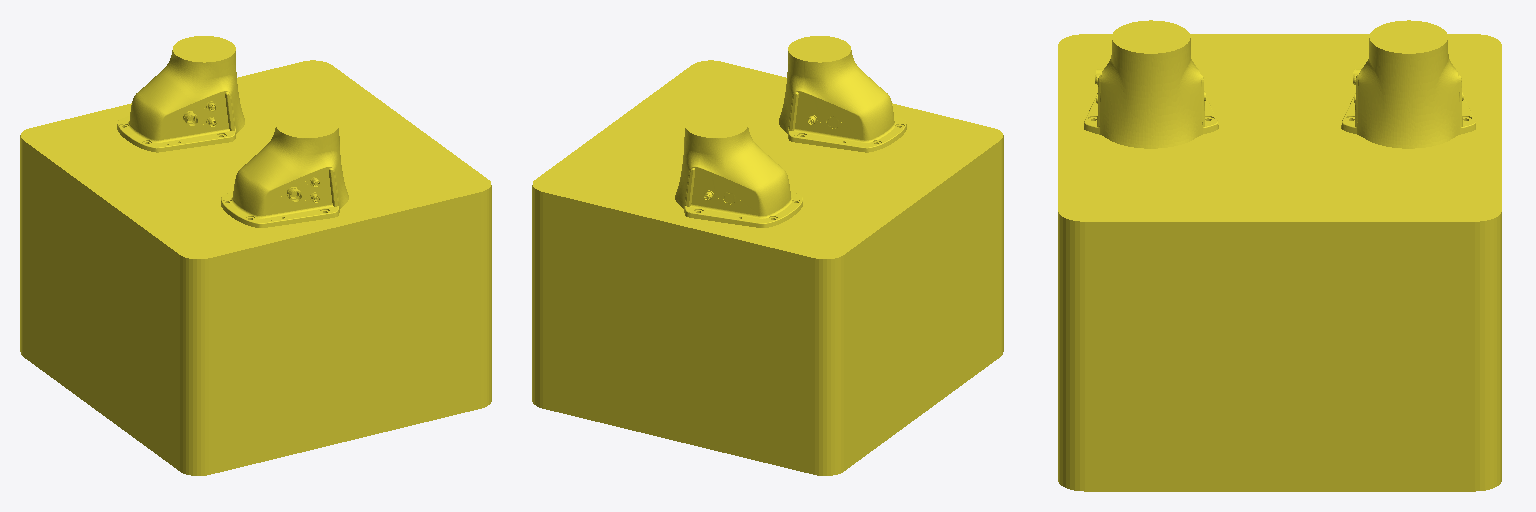
robot.urdf — mmp_panda:
<?xml version='1.0' encoding='utf-8'?>

<robot name="mmp_panda" version="1.0">

  <!-- GROUND LINK -->
  <link name ="ground_link">
    <inertial>
      <origin xyz="0.0 0.0 0.0" rpy="0 0 0" />
      <mass value="0.001" />
      <inertia ixx="1E-06" ixy="0.0" ixz="0.0" iyy="1E-06" iyz="0.0" izz="1E-06" />
    </inertial>
  </link>


  <!-- MOBILE BASE LINKS -->
  <link name ="base_x">
    <inertial>
      <origin xyz="0.0 0.0 0.0" rpy="0 0 0" />
      <mass value="0.001" />
      <inertia ixx="1E-06" ixy="0.0" ixz="0.0" iyy="1E-06" iyz="0.0" izz="1E-06" />
    </inertial>
  </link>

  <link name = "base_y">
    <inertial>
      <origin xyz="0.0 0.0 0.0" rpy="0 0 0" />
      <mass value = "0.001" />
      <inertia ixx="1E-06" ixy="0.0" ixz="0.0" iyy="1E-06" iyz="0.0" izz="1E-06" />
    </inertial>
  </link>

  <!-- MOBILE BASE + LINK 0 OF PANDA ARM -->
  <link name = "base_link">
    <inertial>
      <origin xyz="0.0 0.0 0.1757" rpy="0 0 0" />
      <mass value = "64.6" />
      <inertia ixx="1.721" ixy="0.0" ixz="0.0" iyy="1.712" iyz="0.0" izz="2.030" />
    </inertial>
    <visual>
      <geometry>
        <mesh filename="meshes/mmp_panda_two_arm_base.obj" />
      </geometry>
    </visual>
  </link>

  <!-- PANDA LEFT ARM LINKS --> 
<!--<link name="link0">
    <inertial>
      <origin xyz="0 0 0.05" rpy="0 0 0" />
      <mass value="4" />
      <inertia ixx="0.4" iyy="0.4" izz="0.4" ixy="0" ixz="0" iyz="0" />
    </inertial>
    <visual>
      <geometry>
        <mesh filename="../panda/meshes/visual/link0.obj"/>
      </geometry>
    </visual>
<!      <collision>
        <geometry>
          <mesh filename="../panda/meshes/collision/link0.obj"/>
        </geometry>
      </collision> 
  </link> -->
  <link name="link1_left">
    <inertial>
      <origin xyz="0 0 -0.07" rpy="0 -0 0" />
      <mass value="4" />
      <inertia ixx="0.3" iyy="0.3" izz="0.3" ixy="0" ixz="0" iyz="0" />
    </inertial>
    <visual>
      <geometry>
        <mesh filename="../panda/meshes/visual/link1.obj"/>
      </geometry>
    </visual>
    <!-- <collision>
      <geometry>
        <mesh filename="../panda/meshes/collision/link1.obj"/>
      </geometry>
    </collision> -->
  </link>
  <link name="link2_left">
    <inertial>
      <origin xyz="0 -0.1 0" rpy="0 -0 0" />
      <mass value="3" />
      <inertia ixx="0.3" iyy="0.3" izz="0.3" ixy="0" ixz="0" iyz="0" />
    </inertial>
    <visual>
      <geometry>
        <mesh filename="../panda/meshes/visual/link2.obj"/>
      </geometry>
    </visual>
    <!-- <collision>
      <geometry>
        <mesh filename="../panda/meshes/collision/link2.obj"/>
      </geometry>
    </collision> -->
  </link>
  <link name="link3_left">
    <inertial>
      <origin xyz="0.04 0 -0.05" rpy="0 -0 0" />
      <mass value="3" />
      <inertia ixx="0.2" iyy="0.2" izz="0.2" ixy="0" ixz="0" iyz="0" />
    </inertial>
    <visual>
      <geometry>
        <mesh filename="../panda/meshes/visual/link3.obj"/>
      </geometry>
    </visual>
    <!-- <collision>
      <geometry>
        <mesh filename="../panda/meshes/collision/link3.obj"/>
      </geometry>
    </collision> -->
  </link>
  <link name="link4_left">
    <inertial>
      <origin xyz="-0.04 0.05 0" rpy="0 -0 0" />
      <mass value="3" />
      <inertia ixx="0.2" iyy="0.2" izz="0.2" ixy="0" ixz="0" iyz="0" />
    </inertial>
    <visual>
      <geometry>
        <mesh filename="../panda/meshes/visual/link4.obj"/>
      </geometry>
    </visual>
<!--       <collision>
      <geometry>
        <mesh filename="../panda/meshes/collision/link4.obj"/>
      </geometry>
    </collision> -->
  </link>
  <link name="link5_left">
    <inertial>
      <origin xyz="0 0 -0.15" rpy="0 -0 0" />
      <mass value="3" />
      <inertia ixx="0.2" iyy="0.2" izz="0.2" ixy="0" ixz="0" iyz="0" />
    </inertial>
    <visual>
      <geometry>
        <mesh filename="../panda/meshes/visual/link5.obj"/>
      </geometry>
    </visual>
<!--       <collision>
      <geometry>
        <mesh filename="../panda/meshes/collision/link5.obj"/>
      </geometry>
    </collision> -->
  </link>
  <link name="link6_left">
    <inertial>
      <origin xyz="0.06 0 0" rpy="0 -0 0" />
      <mass value="2" />
      <inertia ixx="0.1" iyy="0.1" izz="0.1" ixy="0" ixz="0" iyz="0" />
    </inertial>
    <visual>
      <geometry>
        <mesh filename="../panda/meshes/visual/link6.obj"/>
      </geometry>
    </visual>
    <!-- <collision>
      <geometry>
        <mesh filename="../panda/meshes/collision/link6.obj"/>
      </geometry>
    </collision> -->
  </link>
  <link name="link7_left">
    <inertial>
      <origin xyz="0 0 0.17" rpy="0 -0 0" />
      <mass value="3.0" />
      <inertia ixx="0.09" iyy="0.05" izz="0.07" ixy="0" ixz="0" iyz="0" />
    </inertial>
    <visual>
      <geometry>
        <mesh filename="../panda/meshes/visual/link7.obj"/>
      </geometry>
    </visual>
    <!-- <collision>
      <geometry>
        <mesh filename="../panda/meshes/collision/link7.obj"/>
      </geometry>
    </collision> -->
  </link>

  <!--PANDA RIGHT ARM LINK-->

    <link name="link1_right">
    <inertial>
      <origin xyz="0 0 -0.07" rpy="0 -0 0" />
      <mass value="4" />
      <inertia ixx="0.3" iyy="0.3" izz="0.3" ixy="0" ixz="0" iyz="0" />
    </inertial>
    <visual>
      <geometry>
        <mesh filename="../panda/meshes/visual/link1.obj"/>
      </geometry>
    </visual>
    <!-- <collision>
      <geometry>
        <mesh filename="../panda/meshes/collision/link1.obj"/>
      </geometry>
    </collision> -->
  </link>
  <link name="link2_right">
    <inertial>
      <origin xyz="0 -0.1 0" rpy="0 -0 0" />
      <mass value="3" />
      <inertia ixx="0.3" iyy="0.3" izz="0.3" ixy="0" ixz="0" iyz="0" />
    </inertial>
    <visual>
      <geometry>
        <mesh filename="../panda/meshes/visual/link2.obj"/>
      </geometry>
    </visual>
    <!-- <collision>
      <geometry>
        <mesh filename="../panda/meshes/collision/link2.obj"/>
      </geometry>
    </collision> -->
  </link>
  <link name="link3_right">
    <inertial>
      <origin xyz="0.04 0 -0.05" rpy="0 -0 0" />
      <mass value="3" />
      <inertia ixx="0.2" iyy="0.2" izz="0.2" ixy="0" ixz="0" iyz="0" />
    </inertial>
    <visual>
      <geometry>
        <mesh filename="../panda/meshes/visual/link3.obj"/>
      </geometry>
    </visual>
    <!-- <collision>
      <geometry>
        <mesh filename="../panda/meshes/collision/link3.obj"/>
      </geometry>
    </collision> -->
  </link>
  <link name="link4_right">
    <inertial>
      <origin xyz="-0.04 0.05 0" rpy="0 -0 0" />
      <mass value="3" />
      <inertia ixx="0.2" iyy="0.2" izz="0.2" ixy="0" ixz="0" iyz="0" />
    </inertial>
    <visual>
      <geometry>
        <mesh filename="../panda/meshes/visual/link4.obj"/>
      </geometry>
    </visual>
<!--       <collision>
      <geometry>
        <mesh filename="../panda/meshes/collision/link4.obj"/>
      </geometry>
    </collision> -->
  </link>
  <link name="link5_right">
    <inertial>
      <origin xyz="0 0 -0.15" rpy="0 -0 0" />
      <mass value="3" />
      <inertia ixx="0.2" iyy="0.2" izz="0.2" ixy="0" ixz="0" iyz="0" />
    </inertial>
    <visual>
      <geometry>
        <mesh filename="../panda/meshes/visual/link5.obj"/>
      </geometry>
    </visual>
<!--       <collision>
      <geometry>
        <mesh filename="../panda/meshes/collision/link5.obj"/>
      </geometry>
    </collision> -->
  </link>
  <link name="link6_right">
    <inertial>
      <origin xyz="0.06 0 0" rpy="0 -0 0" />
      <mass value="2" />
      <inertia ixx="0.1" iyy="0.1" izz="0.1" ixy="0" ixz="0" iyz="0" />
    </inertial>
    <visual>
      <geometry>
        <mesh filename="../panda/meshes/visual/link6.obj"/>
      </geometry>
    </visual>
    <!-- <collision>
      <geometry>
        <mesh filename="../panda/meshes/collision/link6.obj"/>
      </geometry>
    </collision> -->
  </link>
  <link name="link7_right">
    <inertial>
      <origin xyz="0 0 0.17" rpy="0 -0 0" />
      <mass value="3.0" />
      <inertia ixx="0.09" iyy="0.05" izz="0.07" ixy="0" ixz="0" iyz="0" />
    </inertial>
    <visual>
      <geometry>
        <mesh filename="../panda/meshes/visual/link7.obj"/>
      </geometry>
    </visual>
    <!-- <collision>
      <geometry>
        <mesh filename="../panda/meshes/collision/link7.obj"/>
      </geometry>
    </collision> -->
  </link>


  <!-- JOINTS -->
  <joint name = "base_prismatic_x" type = "prismatic">
    <origin xyz = "0 0 0" rpy = "0 0 0"/> 
    <parent link = "ground_link" />
    <child link= "base_x"/>
    <axis xyz = "1 0 0" />
    <limit effort="87" lower="-2.8973" upper="2.9873" velocity="2.1750" />
  </joint>

  <joint name = "base_prismatic_y" type = "prismatic">
    <origin xyz = "0 0 0" rpy = "0 0 0"/> 
    <parent link = "base_x" />
    <child link= "base_y"/>
    <axis xyz = "0 1 0" />
    <limit effort="87" lower="-2.8973" upper="2.9873" velocity="2.1750" />
  </joint>

  <joint name = "base_revolute" type = "revolute">
    <origin xyz = "0 0 0.0" rpy = "0 0 0"/> 
    <parent link = "base_y" />
    <child link= "base_link"/>
    <axis xyz = "0 0 1" />
    <limit effort="87" lower="-2.8973" upper="2.8973" velocity="2.1750" />
  </joint>
<!--
  <joint name = "base_prismatic_link0" type = "prismatic">
    <origin xyz = "0 0 0.33" rpy = "0 0 0"/> 
    <parent link = "base_link" />
    <child link= "link0"/>
    <axis xyz = "0 0 1" />
    <limit effort="87" lower="-2.8973" upper="2.8973" velocity="2.1750" />
  </joint>
-->

<!--Left Arm Joints-->
  <joint name="joint1_left" type="revolute">
      <safety_controller k_position="100.0" k_velocity="40.0" soft_lower_limit="-2.8973" soft_upper_limit="2.8973"/>
      <origin rpy="0 0 1.5708" xyz="0 0.18 0.749"/>
      <parent link="base_link"/>
      <child link="link1_left"/>
      <axis xyz="0 0 1"/>
      <calibration falling="-80.0" />
      <limit effort="87" lower="-2.8973" upper="2.8973" velocity="2.1750"/>
  </joint>
  <joint name="joint2_left" type="revolute">
      <safety_controller k_position="100.0" k_velocity="40.0" soft_lower_limit="-1.7628" soft_upper_limit="1.7628"/>
      <origin rpy="-1.57079632679 0 0" xyz="0 0 0"/>
      <parent link="link1_left"/>
      <child link="link2_left"/>
      <axis xyz="0 0 1"/>
      <calibration falling="-45.0" />
      <limit effort="87" lower="-1.7628" upper="1.7628" velocity="2.1750"/>
  </joint>

  <joint name="joint3_left" type="revolute">
      <safety_controller k_position="100.0" k_velocity="40.0" soft_lower_limit="-2.8973" soft_upper_limit="2.8973"/>
      <origin rpy="1.57079632679 0 0" xyz="0 -0.316 0"/>
      <parent link="link2_left"/>
      <child link="link3_left"/>
      <axis xyz="0 0 1"/>
      <limit effort="87" lower="-2.8973" upper="2.8973" velocity="2.1750"/>
  </joint>

  <joint name="joint4_left" type="revolute">
      <safety_controller k_position="100.0" k_velocity="40.0" soft_lower_limit="-3.0718" soft_upper_limit="-0.0698"/>
      <origin rpy="1.57079632679 0 0" xyz="0.0825 0 0"/>
      <parent link="link3_left"/>
      <child link="link4_left"/>
      <axis xyz="0 0 1"/>
      <calibration falling="-125.0" />
      <limit effort="87" lower="-3.0718" upper="-0.0698" velocity="2.1750"/>
  </joint>

  <joint name="joint5_left" type="revolute">
      <safety_controller k_position="100.0" k_velocity="40.0" soft_lower_limit="-2.8973" soft_upper_limit="2.8973"/>
      <origin rpy="-1.57079632679 0 0" xyz="-0.0825 0.384 0"/>
      <parent link="link4_left"/>
      <child link="link5_left"/>
      <axis xyz="0 0 1"/>
      <limit effort="12" lower="-2.8973" upper="2.8973" velocity="2.6100"/>
  </joint>

  <joint name="joint6_left" type="revolute">
      <safety_controller k_position="100.0" k_velocity="40.0" soft_lower_limit="-0.0175" soft_upper_limit="3.7525"/>
      <origin rpy="1.57079632679 0 0" xyz="0 0 0"/>
      <parent link="link5_left"/>
      <child link="link6_left"/>
      <axis xyz="0 0 1"/>
      <calibration falling="80.0" />
      <limit effort="12" lower="-0.0175" upper="3.7525" velocity="2.6100"/>
  </joint>

  <joint name="joint7_left" type="revolute">
      <safety_controller k_position="100.0" k_velocity="40.0" soft_lower_limit="-2.8973" soft_upper_limit="2.8973"/>
      <origin rpy="1.57079632679 0 0" xyz="0.088 0 0"/>
      <parent link="link6_left"/>
      <child link="link7_left"/>
      <axis xyz="0 0 1"/>
      <limit effort="12" lower="-2.8973" upper="2.8973" velocity="2.6100"/>
  </joint>


  <!--Right Arm Joints-->
  <joint name="joint1_right" type="revolute">
      <safety_controller k_position="100.0" k_velocity="40.0" soft_lower_limit="-2.8973" soft_upper_limit="2.8973"/>
      <origin rpy="0 0 1.5708" xyz="0 -0.18 0.749"/>
      <parent link="base_link"/>
      <child link="link1_right"/>
      <axis xyz="0 0 1"/>
      <calibration falling="-80.0" />
      <limit effort="87" lower="-2.8973" upper="2.8973" velocity="2.1750"/>
  </joint>
  <joint name="joint2_right" type="revolute">
      <safety_controller k_position="100.0" k_velocity="40.0" soft_lower_limit="-1.7628" soft_upper_limit="1.7628"/>
      <origin rpy="-1.57079632679 0 0" xyz="0 0 0"/>
      <parent link="link1_right"/>
      <child link="link2_right"/>
      <axis xyz="0 0 1"/>
      <calibration falling="-45.0" />
      <limit effort="87" lower="-1.7628" upper="1.7628" velocity="2.1750"/>
  </joint>

  <joint name="joint3_right" type="revolute">
      <safety_controller k_position="100.0" k_velocity="40.0" soft_lower_limit="-2.8973" soft_upper_limit="2.8973"/>
      <origin rpy="1.57079632679 0 0" xyz="0 -0.316 0"/>
      <parent link="link2_right"/>
      <child link="link3_right"/>
      <axis xyz="0 0 1"/>
      <limit effort="87" lower="-2.8973" upper="2.8973" velocity="2.1750"/>
  </joint>

  <joint name="joint4_right" type="revolute">
      <safety_controller k_position="100.0" k_velocity="40.0" soft_lower_limit="-3.0718" soft_upper_limit="-0.0698"/>
      <origin rpy="1.57079632679 0 0" xyz="0.0825 0 0"/>
      <parent link="link3_right"/>
      <child link="link4_right"/>
      <axis xyz="0 0 1"/>
      <calibration falling="-125.0" />
      <limit effort="87" lower="-3.0718" upper="-0.0698" velocity="2.1750"/>
  </joint>

  <joint name="joint5_right" type="revolute">
      <safety_controller k_position="100.0" k_velocity="40.0" soft_lower_limit="-2.8973" soft_upper_limit="2.8973"/>
      <origin rpy="-1.57079632679 0 0" xyz="-0.0825 0.384 0"/>
      <parent link="link4_right"/>
      <child link="link5_right"/>
      <axis xyz="0 0 1"/>
      <limit effort="12" lower="-2.8973" upper="2.8973" velocity="2.6100"/>
  </joint>

  <joint name="joint6_right" type="revolute">
      <safety_controller k_position="100.0" k_velocity="40.0" soft_lower_limit="-0.0175" soft_upper_limit="3.7525"/>
      <origin rpy="1.57079632679 0 0" xyz="0 0 0"/>
      <parent link="link5_right"/>
      <child link="link6_right"/>
      <axis xyz="0 0 1"/>
      <calibration falling="80.0" />
      <limit effort="12" lower="-0.0175" upper="3.7525" velocity="2.6100"/>
  </joint>

  <joint name="joint7_right" type="revolute">
      <safety_controller k_position="100.0" k_velocity="40.0" soft_lower_limit="-2.8973" soft_upper_limit="2.8973"/>
      <origin rpy="1.57079632679 0 0" xyz="0.088 0 0"/>
      <parent link="link6_right"/>
      <child link="link7_right"/>
      <axis xyz="0 0 1"/>
      <limit effort="12" lower="-2.8973" upper="2.8973" velocity="2.6100"/>
  </joint>

</robot> 

--- What the picture shows (computed from the rendered views, not written in the file) ---
Views: 3 orthographic renders of the robot side by side, from view 1: azimuth 30°, elevation 25°; view 2: azimuth 150°, elevation 25°; view 3: azimuth 270°, elevation 25°.
Robot: mmp_panda — 18 links, 17 joints (15 revolute, 2 prismatic); root link ground_link; default pose: joints at zero except 2 at the middle of their limits (joint4_left = -1.57, joint4_right = -1.57).
Links seen in each view (by area): view 1: base_link; view 2: base_link; view 3: base_link.
Boxes of the visible links, box(x1,y1,x2,y2) form: base_link: box(20, 36, 491, 475); base_link: box(532, 36, 1003, 475); base_link: box(1058, 20, 1501, 491).
Bounding box of the posed robot: 0.62 × 0.62 × 0.556 m (x, y, z).
1 mesh visuals loaded from 8 distinct referenced files (1 OBJ); not drawn: 14 (reference not matched to a file when rendering).